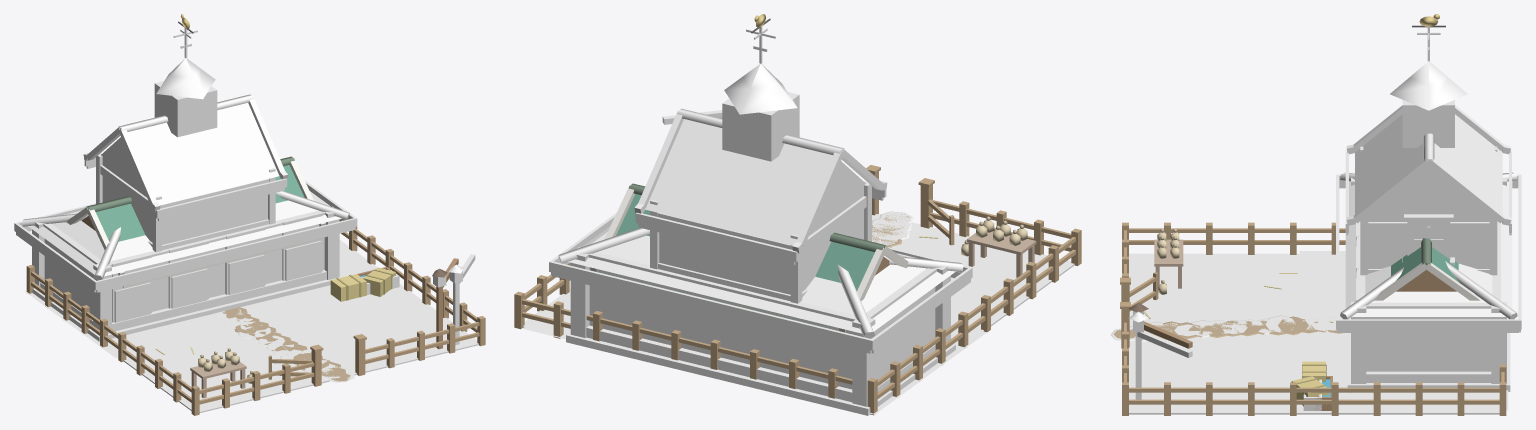
The model's file is horse_stable_1.glb.
The picture shows the model from 3 angles, left to right: view 1: azimuth 30°, elevation 25°; view 2: azimuth 150°, elevation 25°; view 3: azimuth 270°, elevation 25°; orthographic projection. The views are drawn at different scales.
Parts seen in each view (by area): view 1: when_plan_true, body4, horse_stable_1; view 2: when_plan_true, body4; view 3: when_plan_true, body4, horse_stable_1.
Part boxes in pixels (left/top/right/bottom): when_plan_true: left=14, top=14, right=475, bottom=382; body4: left=26, top=156, right=485, bottom=415; horse_stable_1: left=108, top=260, right=357, bottom=352; when_plan_true: left=522, top=14, right=986, bottom=415; body4: left=514, top=117, right=1081, bottom=415; when_plan_true: left=1110, top=14, right=1521, bottom=410; body4: left=1113, top=222, right=1506, bottom=415; horse_stable_1: left=1310, top=255, right=1508, bottom=400.
Size of the model in its own units: 2.8 by 2.3 by 2.76.
